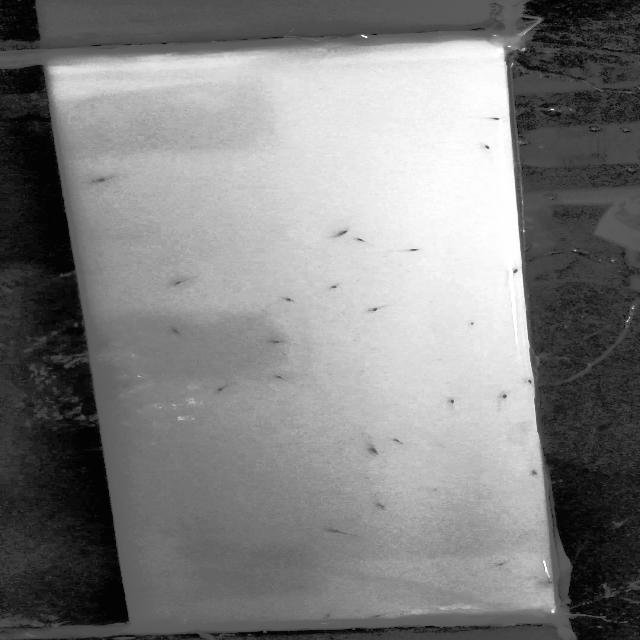shrimp: (320, 524, 362, 539), (363, 302, 394, 319), (355, 437, 384, 454), (499, 388, 516, 414), (312, 609, 352, 620), (86, 174, 121, 186), (327, 225, 356, 239), (270, 374, 300, 387), (402, 248, 440, 258), (499, 264, 526, 278), (163, 277, 194, 289), (212, 380, 239, 392), (444, 397, 467, 411), (524, 465, 548, 478), (163, 327, 191, 338), (487, 558, 516, 568), (367, 611, 399, 620), (354, 237, 373, 250), (263, 338, 290, 347), (386, 438, 409, 448), (376, 498, 392, 511), (518, 376, 536, 387), (488, 113, 506, 124), (280, 298, 304, 306), (328, 281, 344, 290), (480, 143, 496, 152), (464, 321, 492, 326)
